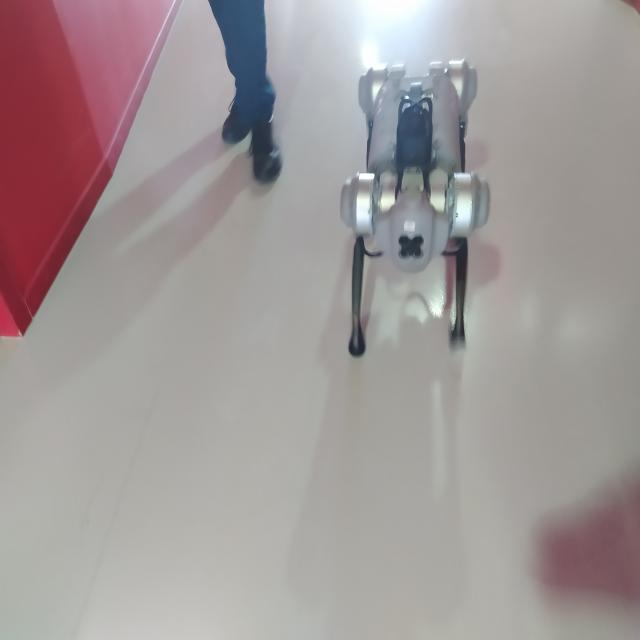unitree-go1-robot: (341, 65, 490, 357)
